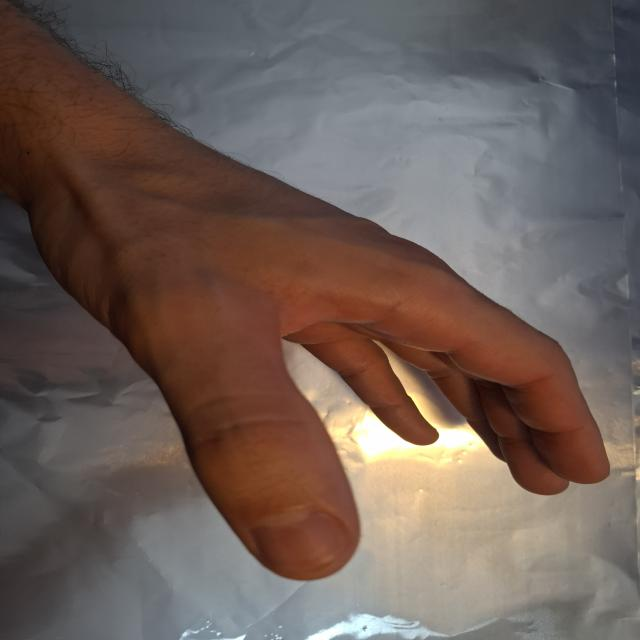glove_off: (21, 112, 612, 584)
